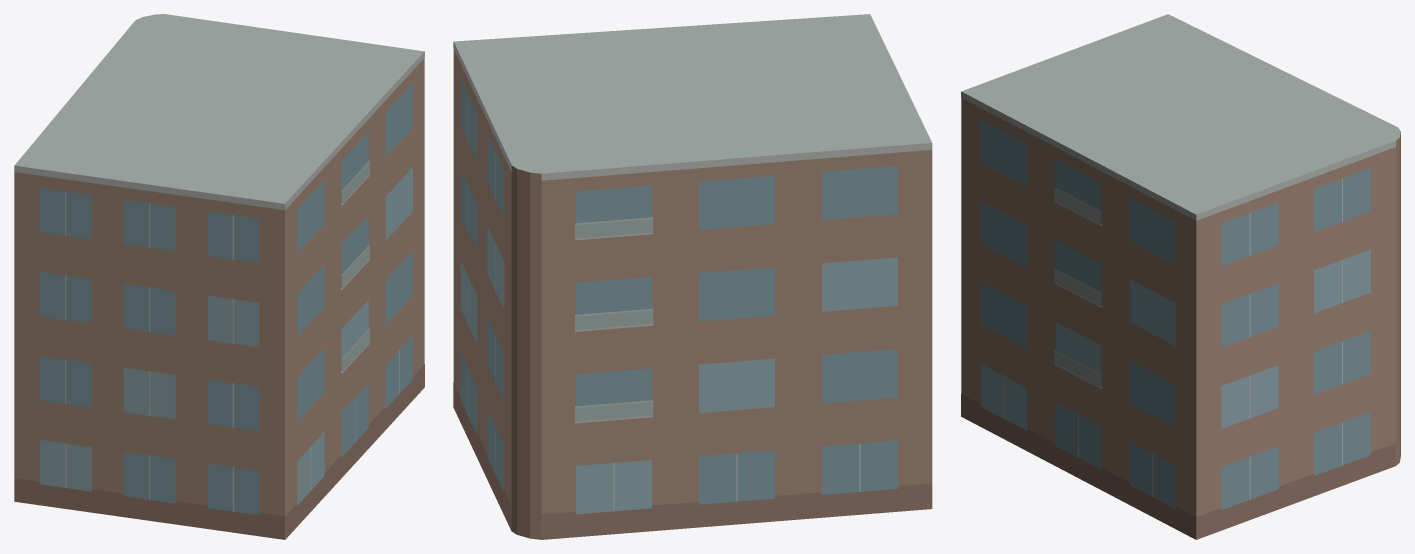
File: survey-upis-32724229.glb
3 views of the same model, side by side, from view 1: azimuth 30°, elevation 25°; view 2: azimuth 150°, elevation 25°; view 3: azimuth 270°, elevation 25° (orthographic). The views are drawn at different scales.
Parts seen in each view (by area): view 1: survey-upis-32724229.tmp; view 2: survey-upis-32724229.tmp; view 3: survey-upis-32724229.tmp.
Boxes of the visible parts, x1,y1,x2,y2 form: survey-upis-32724229.tmp: [14, 14, 424, 539]; survey-upis-32724229.tmp: [453, 14, 932, 539]; survey-upis-32724229.tmp: [961, 14, 1400, 539].
Bounding box in the file's own units: 16.95 × 12.8 × 15.68.
